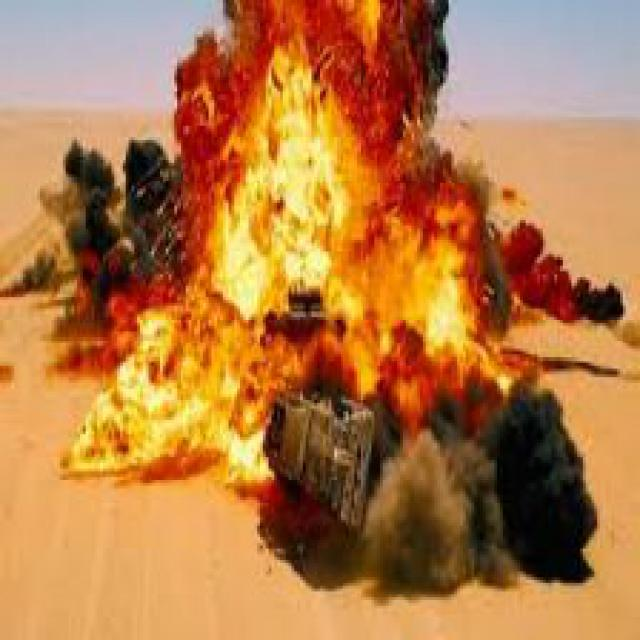fire: (60, 3, 537, 508)
